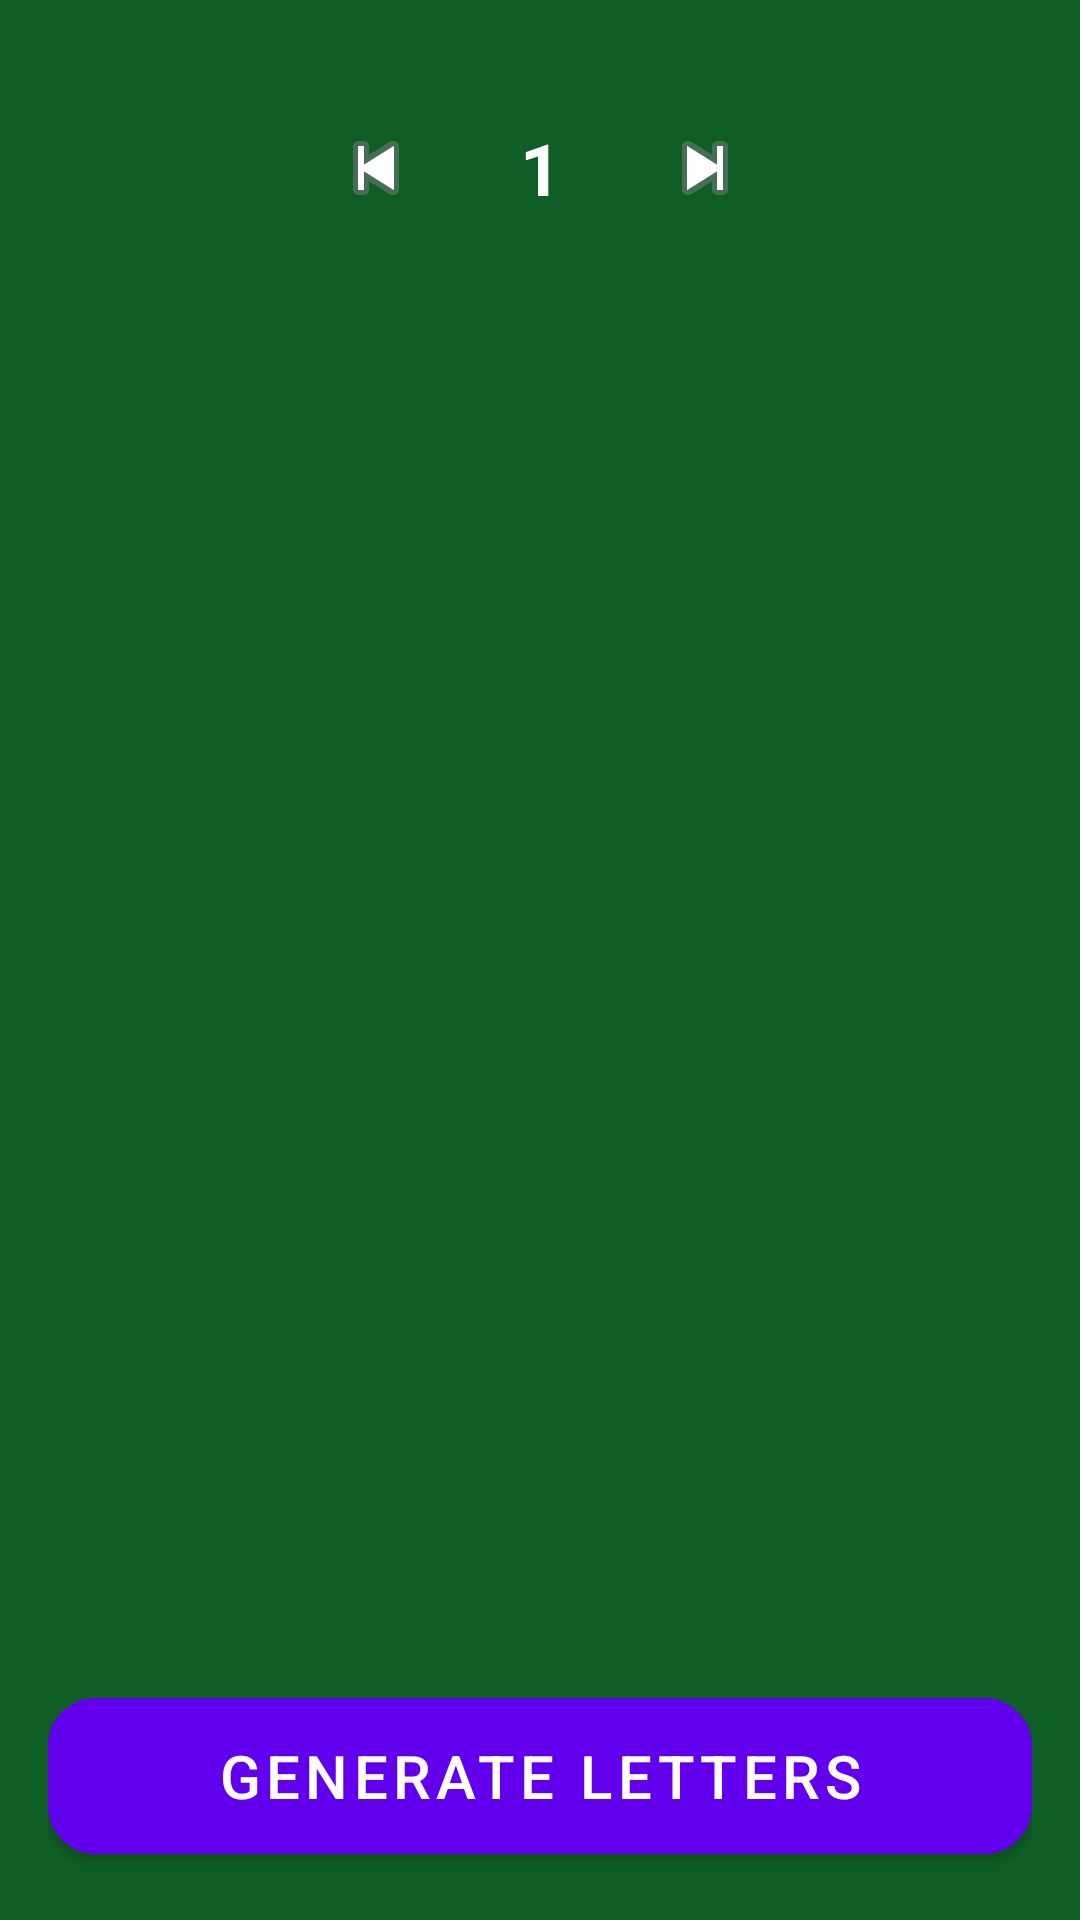

Screen size 1080 × 1920. Icon name, then its box in pixels as (x1, y1, x2, y2):
Decrease: (353, 141, 399, 195)
Increase: (682, 141, 728, 195)
